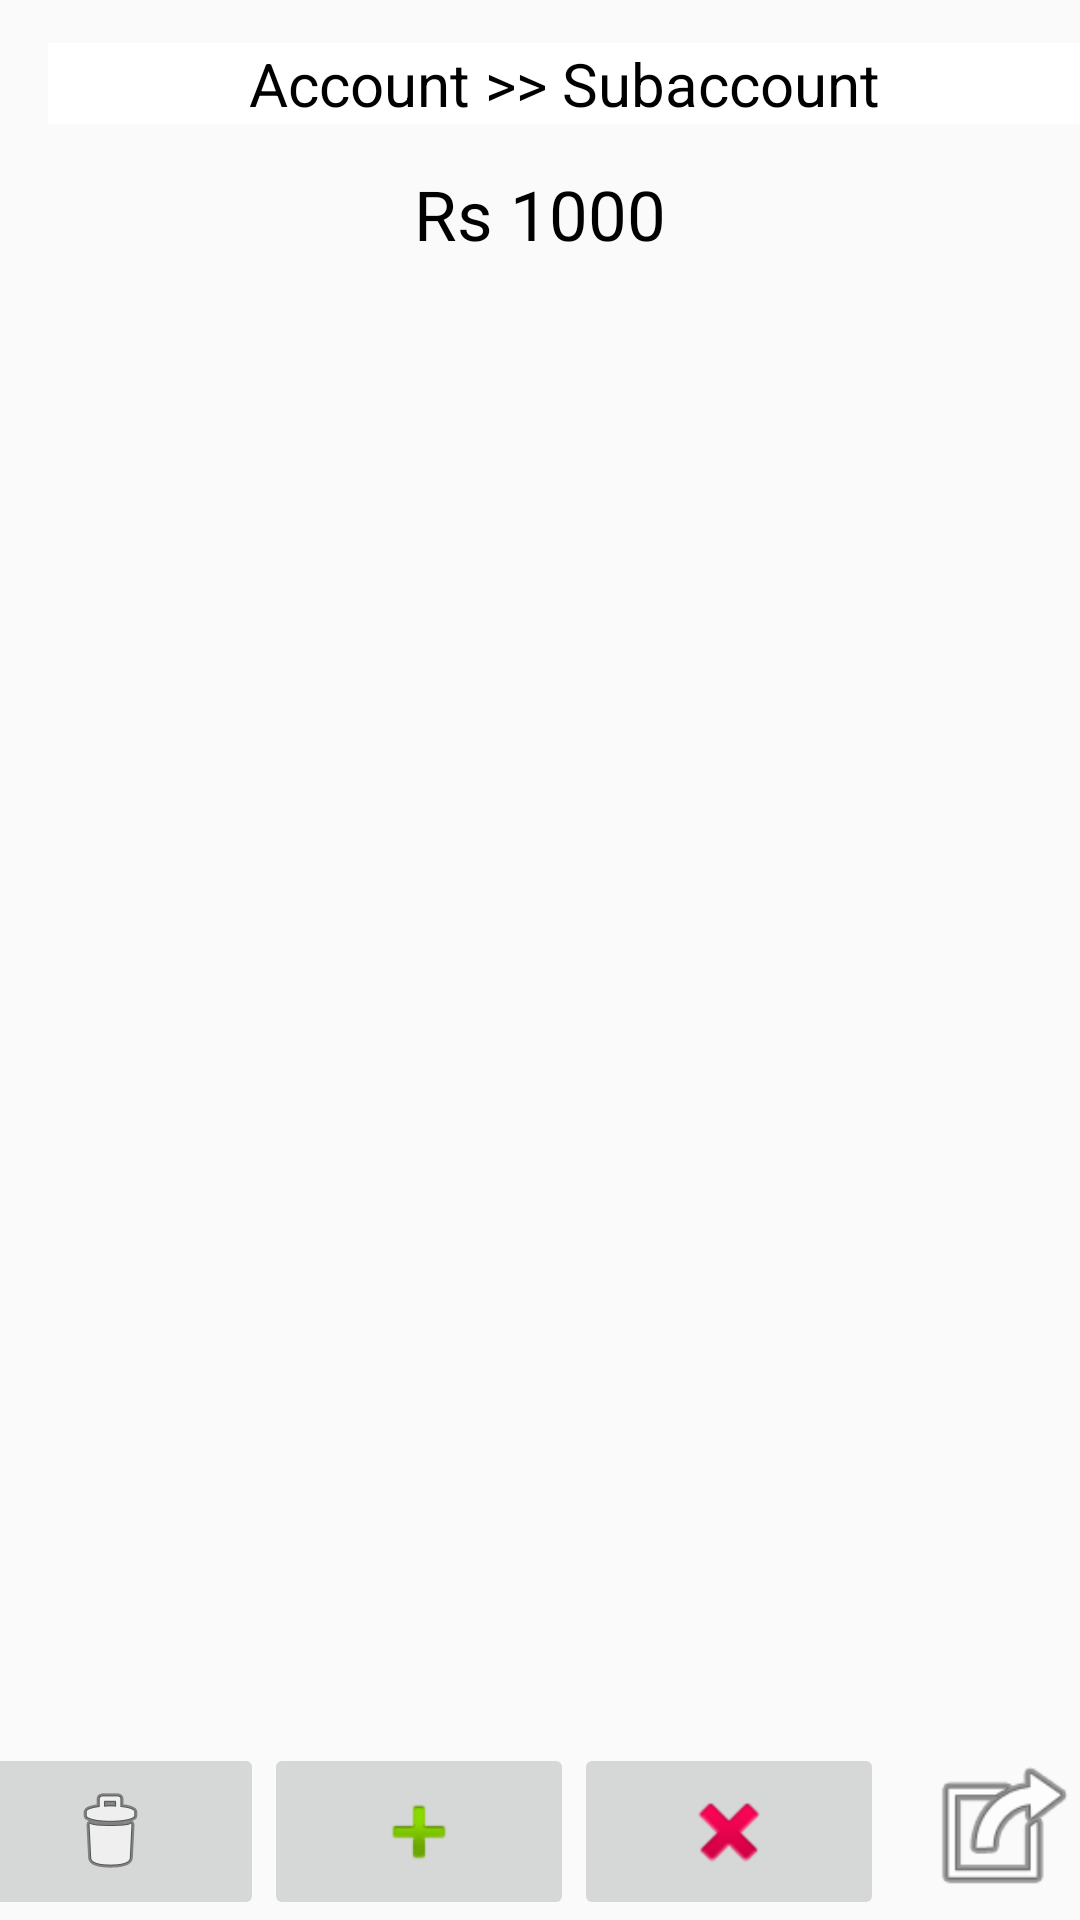

Icons on this 1080×1920 Android screen, each with its box as (x1, y1, x2, y2):
add: (276, 1761, 562, 1902)
